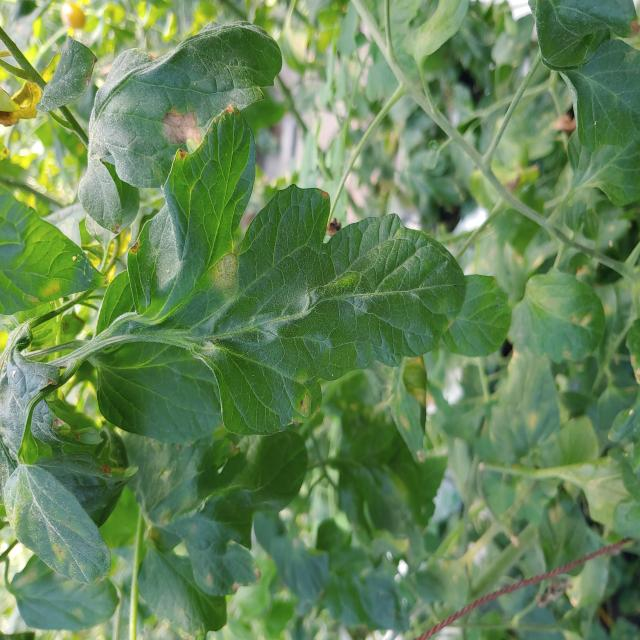Leaf Mold: (123, 104, 467, 438), (76, 18, 282, 235), (120, 430, 306, 598), (1, 461, 112, 586), (508, 266, 606, 366)
